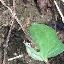Morning glory: (14, 16, 64, 64)
